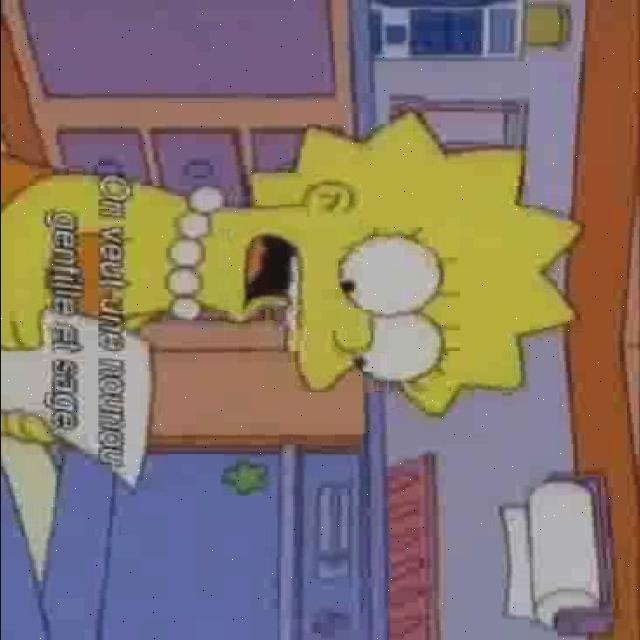Lisa Simpson: (161, 108, 587, 416)
